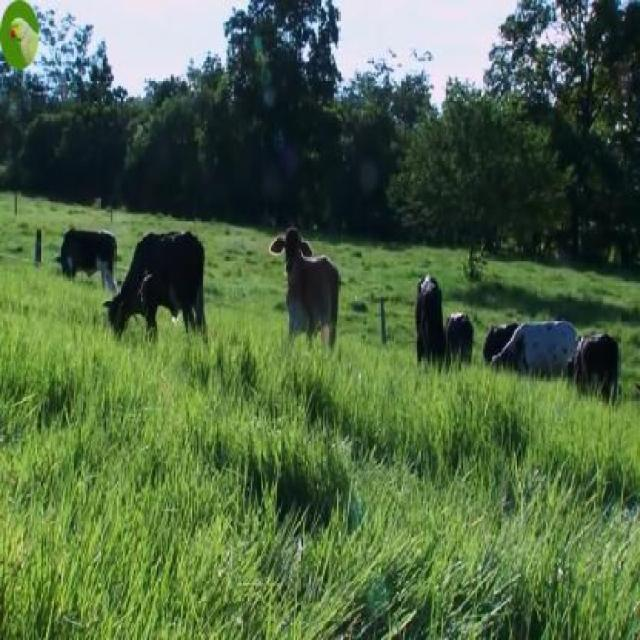Cow: (104, 231, 204, 363), (271, 223, 340, 349)
